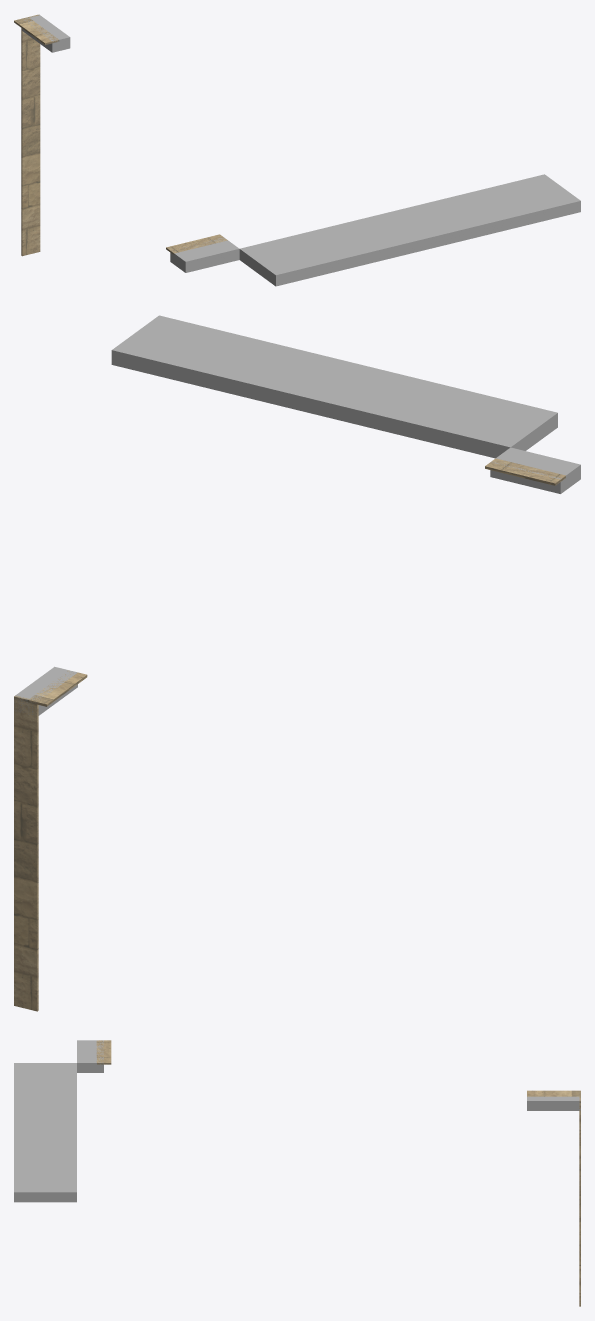
The model's file is roof-bundle-link-north-west.glb.
The picture shows the model from 3 angles, top to bottom: view 1: azimuth 30°, elevation 25°; view 2: azimuth 150°, elevation 25°; view 3: azimuth 270°, elevation 25°; orthographic projection. The views are drawn at different scales.
Visible parts, largest first — view 1: ph_bz04_stone_trim_sandstone-cast, bz06_dressed_sandstone-cast; view 2: ph_bz04_stone_trim_sandstone-cast, bz06_dressed_sandstone-cast; view 3: ph_bz04_stone_trim_sandstone-cast, bz06_dressed_sandstone-cast.
Part boxes in pixels (x1,y1,x2,y2): ph_bz04_stone_trim_sandstone-cast: (21,14,580,286); bz06_dressed_sandstone-cast: (14,14,227,256); ph_bz04_stone_trim_sandstone-cast: (14,315,580,715); bz06_dressed_sandstone-cast: (14,458,565,1011); ph_bz04_stone_trim_sandstone-cast: (14,1040,580,1202); bz06_dressed_sandstone-cast: (96,1040,580,1306).
Bounding box in the file's own units: 4 × 2.52 × 6.3.
2 materials, 1 textured.
